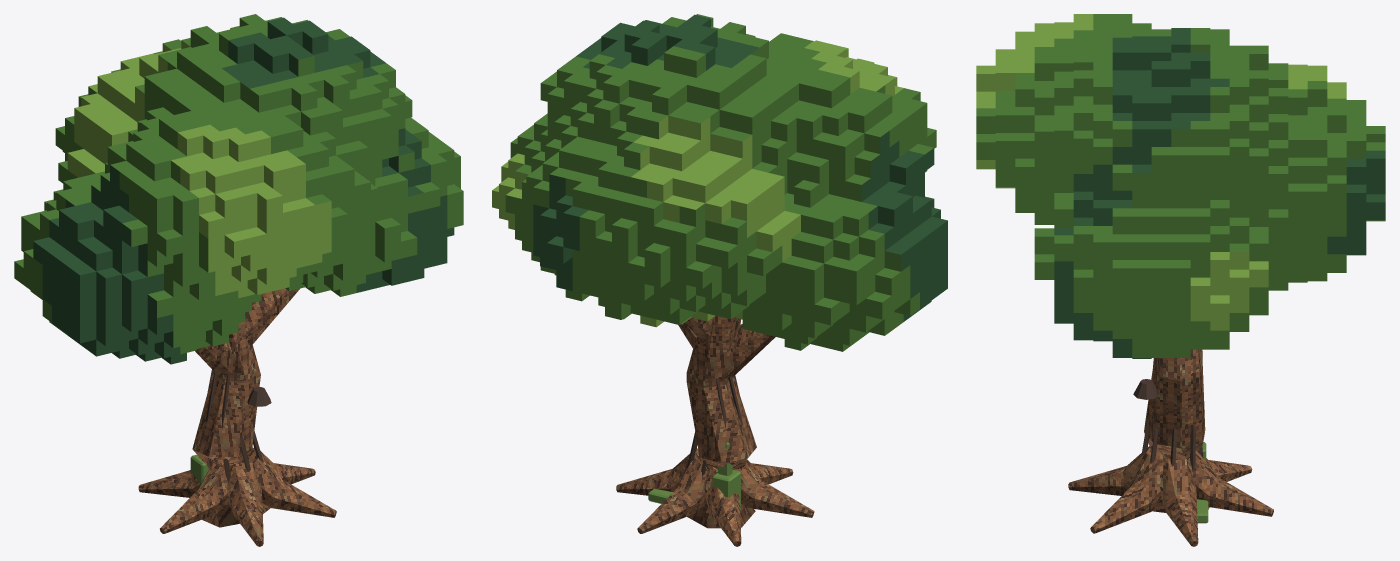
3 views of the same model, side by side, from view 1: azimuth 30°, elevation 25°; view 2: azimuth 150°, elevation 25°; view 3: azimuth 270°, elevation 25° (orthographic). The views are drawn at different scales.
Visible parts, largest first — view 1: Canopy__leaf, Trunk__bark, Trunk__bark_dark; view 2: Canopy__leaf, Trunk__bark, Moss__moss, Trunk__bark_dark; view 3: Canopy__leaf, Trunk__bark, Trunk__bark_dark.
Boxes of the visible parts, x1,y1,x2,y2 form: Canopy__leaf: (14,14,463,364); Trunk__bark: (138,288,336,546); Trunk__bark_dark: (205,369,271,482); Canopy__leaf: (492,14,947,351); Trunk__bark: (616,316,814,546); Moss__moss: (648,442,740,508); Trunk__bark_dark: (687,375,743,477); Canopy__leaf: (976,14,1385,358); Trunk__bark: (1068,349,1273,546); Trunk__bark_dark: (1133,379,1203,471).
Size of the model in its own units: 5.28 by 6.05 by 4.62.
Materials: 6 (1 with a texture image).
